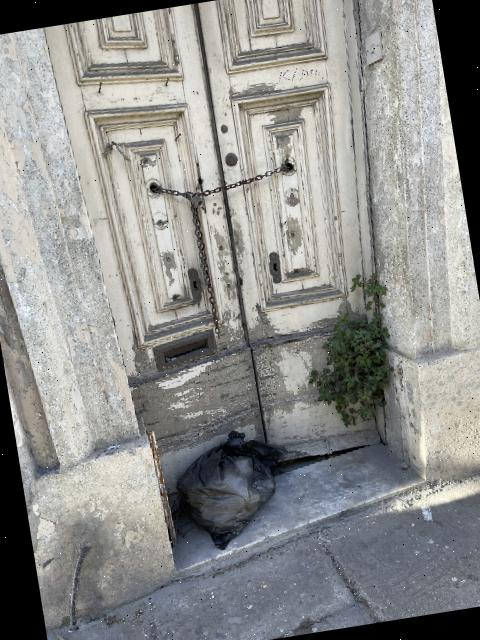Mixed -Black-: (177, 430, 289, 549)
